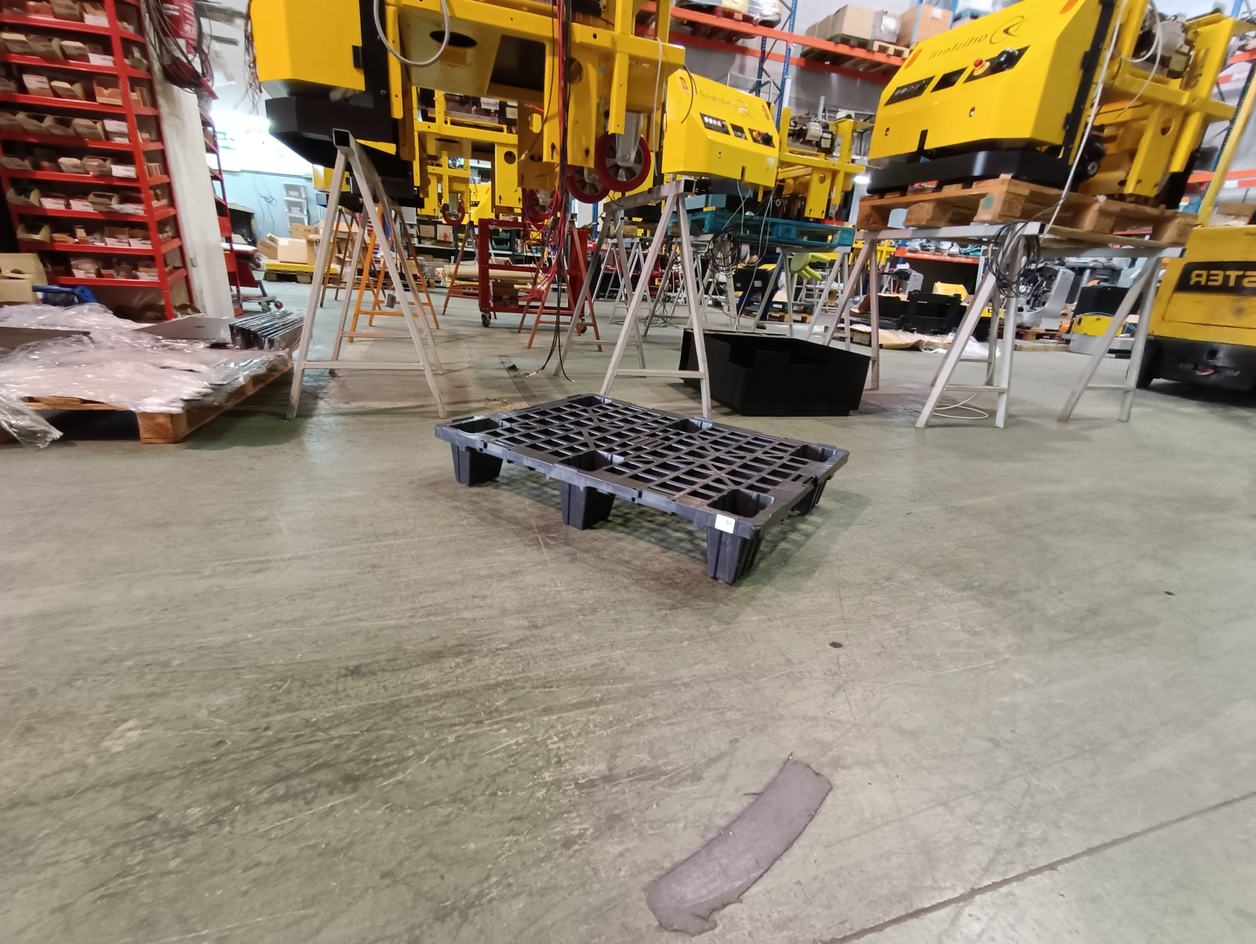block: (702, 516, 767, 586), (438, 424, 504, 490), (562, 471, 611, 527)
front: (442, 431, 754, 594)
hole pallet: (587, 487, 705, 574), (473, 448, 565, 517)
